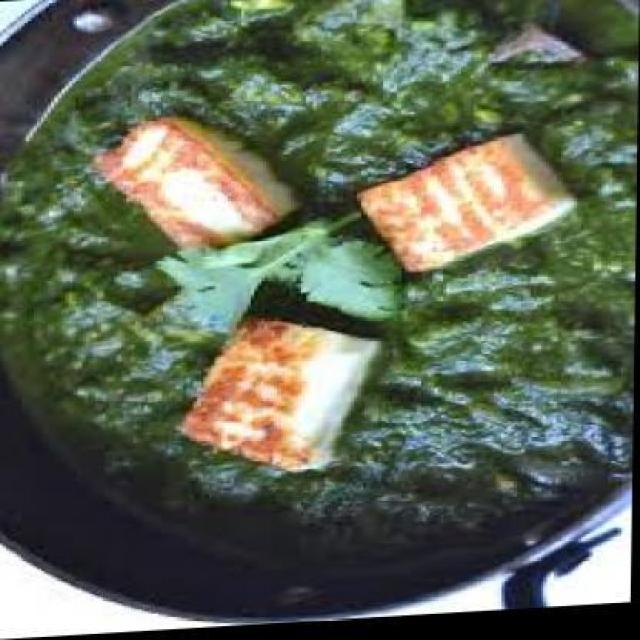palak_paneer: (0, 0, 640, 588)
